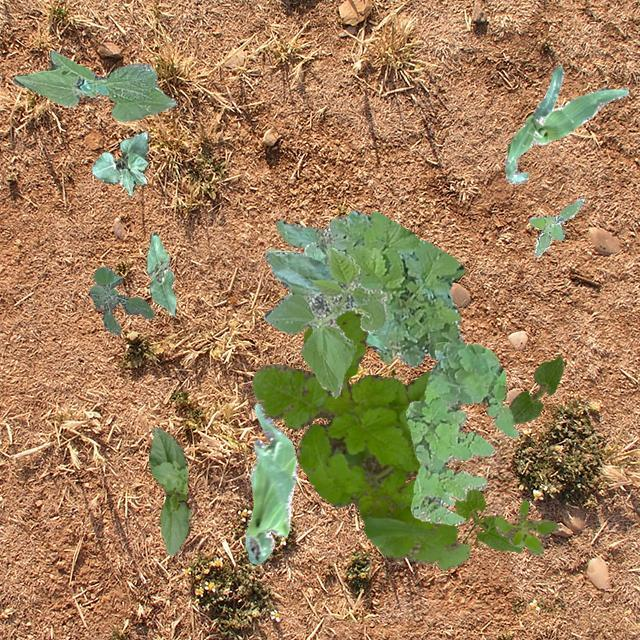crop: (263, 246, 387, 396), (503, 64, 628, 184), (266, 248, 388, 354), (12, 50, 176, 120), (244, 402, 296, 564), (148, 426, 192, 556), (454, 488, 520, 552), (90, 130, 148, 197), (508, 354, 562, 422), (146, 232, 176, 314), (304, 242, 326, 264)
weed: (252, 310, 469, 570), (276, 208, 464, 366), (404, 340, 518, 524), (88, 266, 154, 334), (494, 498, 556, 556), (528, 196, 582, 256)
